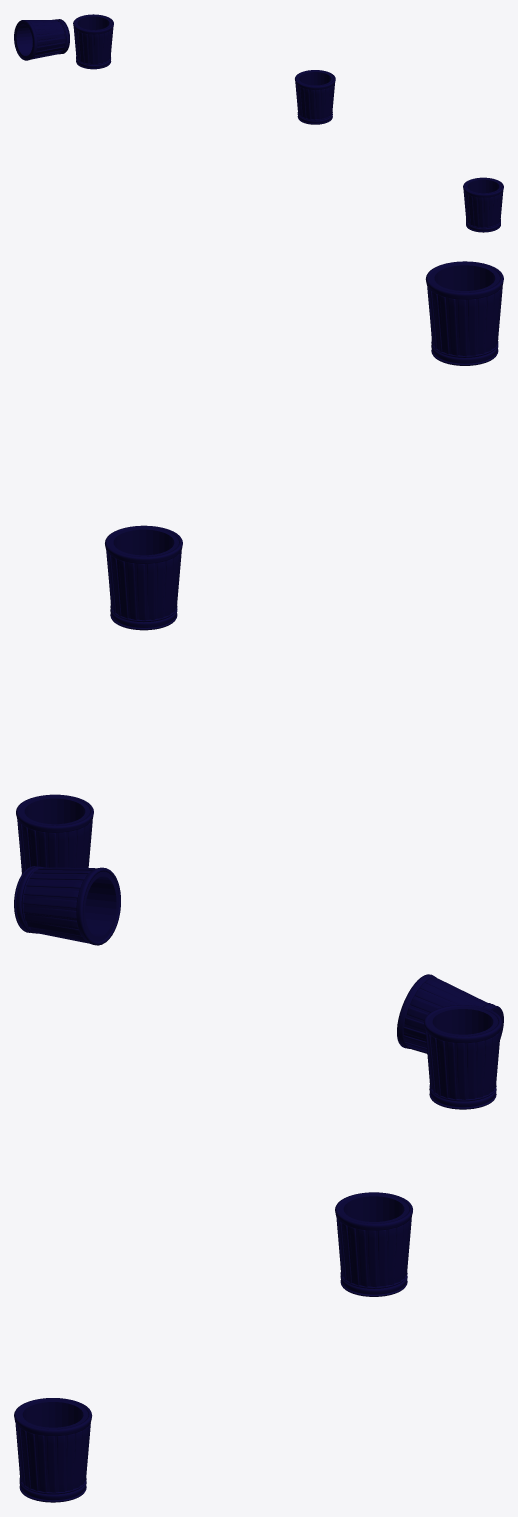
The model's file is poubelles.fbx.
3 renders of one model, top to bottom at view 1: azimuth 30°, elevation 25°; view 2: azimuth 150°, elevation 25°; view 3: azimuth 330°, elevation 25°, orthographic. The views are drawn at different scales.
Parts seen in each view (by area): view 1: poubelle_1, poubelle_3, poubelle_2, poubelle_4; view 2: poubelle_1, poubelle_3, poubelle_4, poubelle_2; view 3: poubelle_2, poubelle_3, poubelle_4, poubelle_1.
Boxes of the visible parts, x1=… form: poubelle_1: x1=14, y1=19, x2=69, y2=60; poubelle_3: x1=295, y1=70, x2=335, y2=124; poubelle_2: x1=73, y1=14, x2=113, y2=69; poubelle_4: x1=463, y1=177, x2=503, y2=232; poubelle_1: x1=14, y1=866, x2=120, y2=945; poubelle_3: x1=105, y1=525, x2=182, y2=630; poubelle_4: x1=425, y1=261, x2=503, y2=365; poubelle_2: x1=16, y1=794, x2=93, y2=874; poubelle_2: x1=424, y1=1005, x2=501, y2=1109; poubelle_3: x1=335, y1=1192, x2=412, y2=1296; poubelle_4: x1=14, y1=1398, x2=92, y2=1502; poubelle_1: x1=397, y1=974, x2=503, y2=1053.
Size of the model in its own units: 73.6 by 36.51 by 285.
